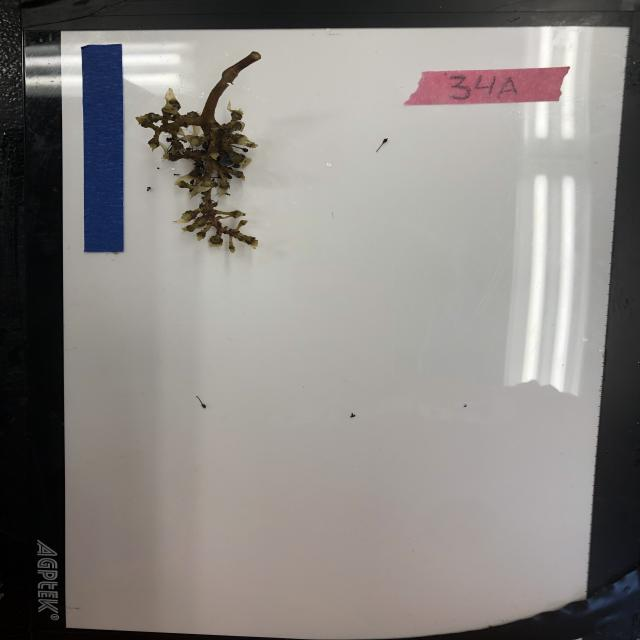index: (404, 65, 574, 106)
measure_label: (82, 40, 128, 256)
rachis_cluster: (135, 46, 299, 264)
